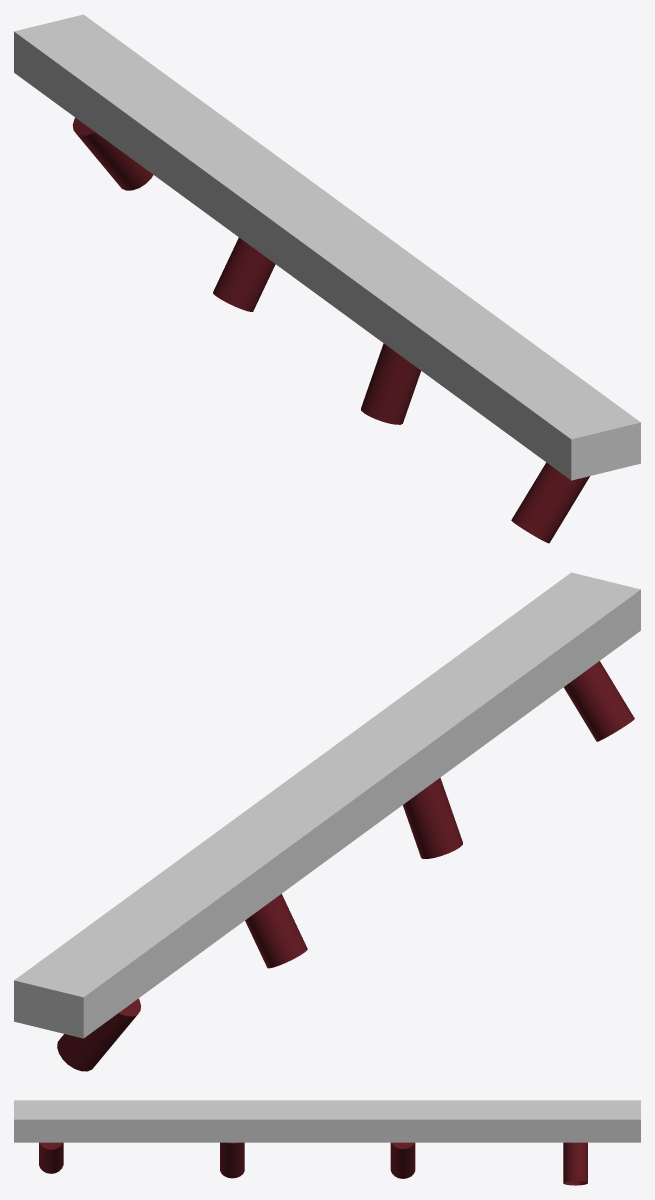
The model's file is Mini.fbx.
3 views of the same model, one above another, from view 1: azimuth 30°, elevation 25°; view 2: azimuth 150°, elevation 25°; view 3: azimuth 270°, elevation 25° (orthographic). The views are drawn at different scales.
Parts seen in each view (by area): view 1: MiniLamps; view 2: MiniLamps; view 3: MiniLamps.
Part boxes in pixels (left/top/right/bottom): MiniLamps: left=14, top=14, right=640, bottom=543; MiniLamps: left=14, top=572, right=640, bottom=1071; MiniLamps: left=14, top=1100, right=640, bottom=1185.
Size of the model in its own units: 80.25 by 93.51 by 741.
